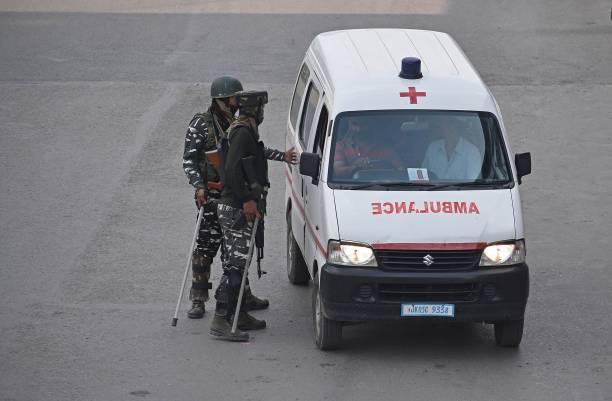ER: (284, 27, 527, 356)
